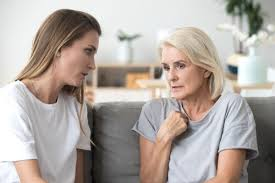person: (20, 7, 108, 121), (146, 29, 243, 127)
